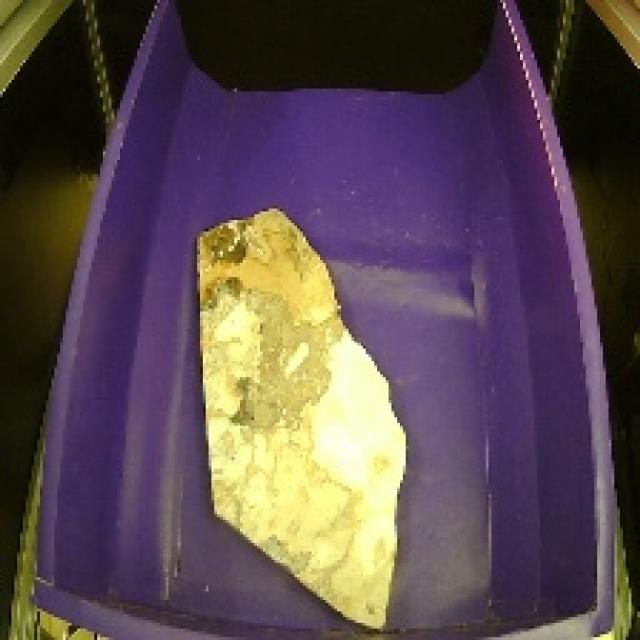china: (185, 199, 412, 640)
